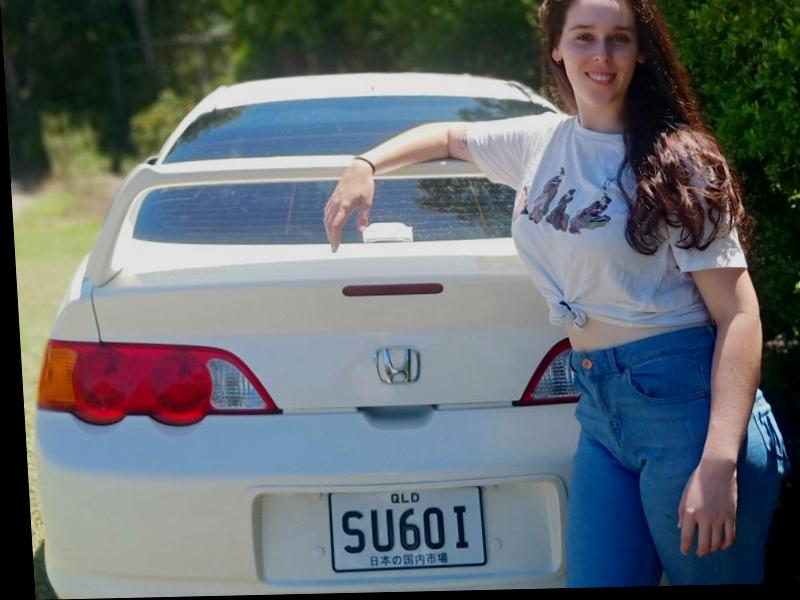License_Plate: (324, 483, 492, 580)
